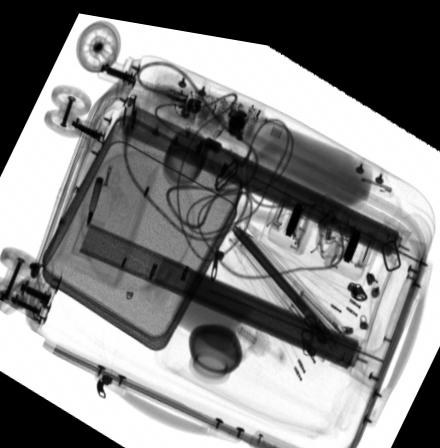Bullet: (86, 173, 104, 227)
